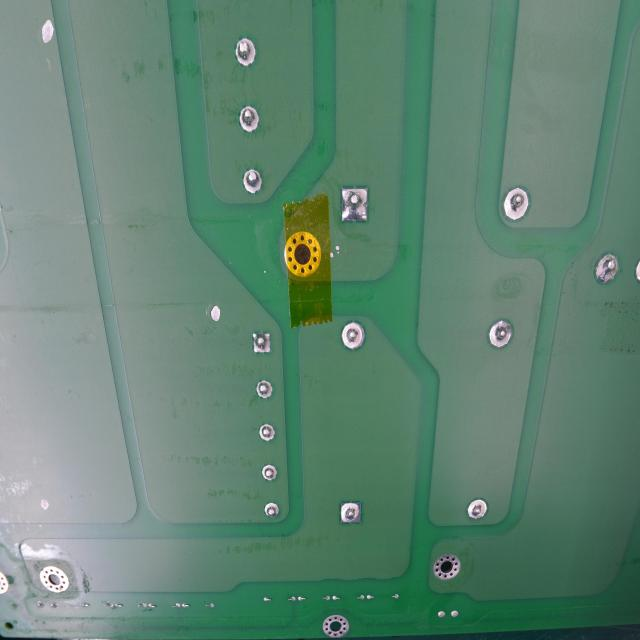spillover: (36, 18, 54, 47), (206, 300, 220, 324), (330, 239, 341, 263)
